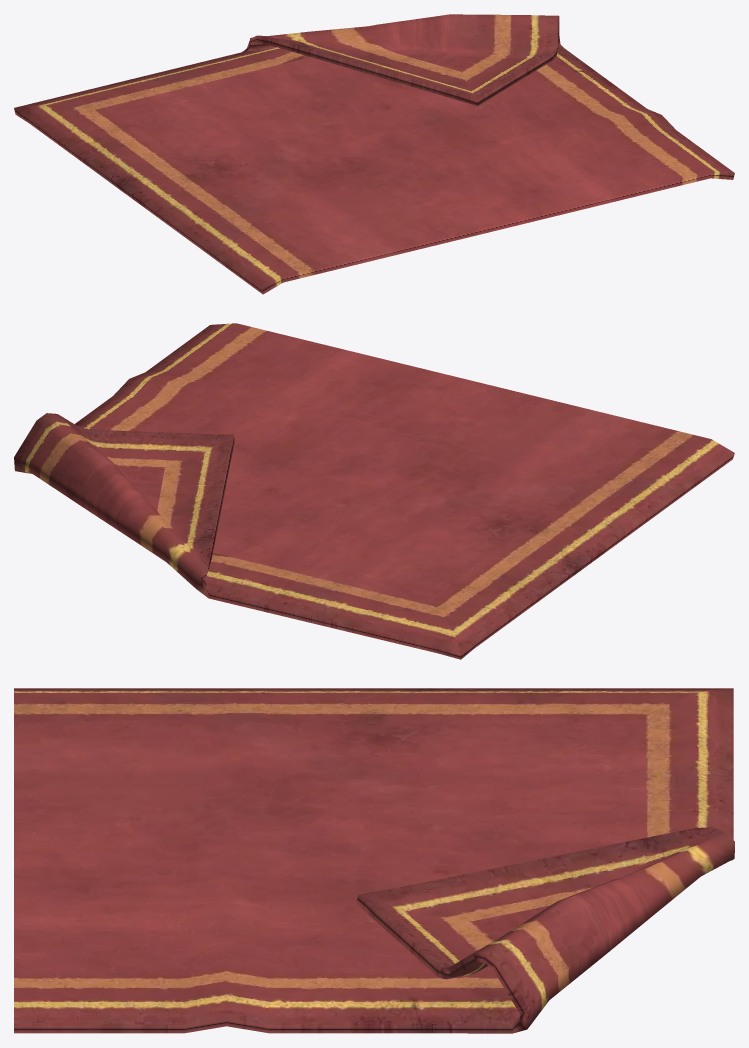
The picture shows the model from 3 angles, top to bottom: view 1: azimuth 30°, elevation 25°; view 2: azimuth 150°, elevation 25°; view 3: azimuth 270°, elevation 25°; orthographic projection. The views are drawn at different scales.
Parts seen in each view (by area): view 1: SM_DR_Rug_A_End_02_01_LOD0; view 2: SM_DR_Rug_A_End_02_01_LOD0; view 3: SM_DR_Rug_A_End_02_01_LOD0.
Part boxes in pixels (left/top/right/bottom): SM_DR_Rug_A_End_02_01_LOD0: left=14, top=14, right=734, bottom=294; SM_DR_Rug_A_End_02_01_LOD0: left=14, top=323, right=734, bottom=659; SM_DR_Rug_A_End_02_01_LOD0: left=14, top=688, right=734, bottom=1033.
Size of the model in its own units: 2.24 by 0.2209 by 2.02.
1 material, 1 textured.
